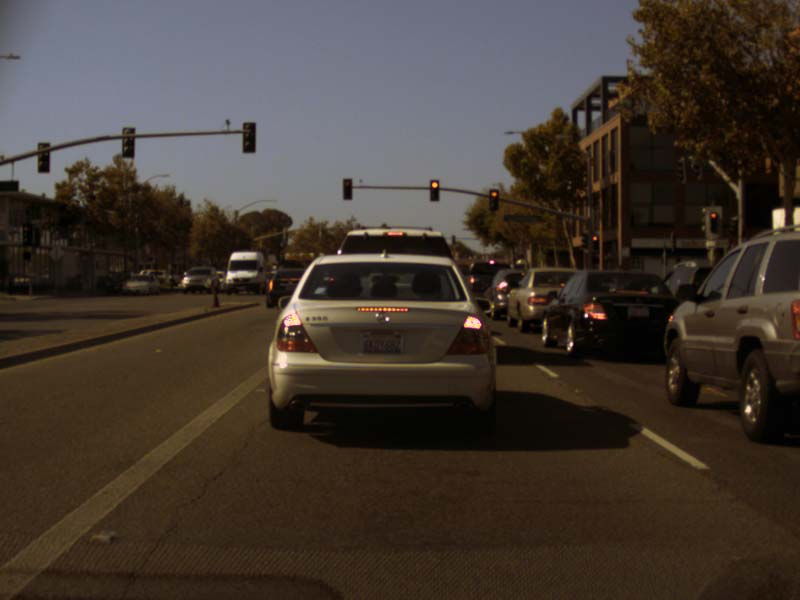Red: (705, 206, 722, 240), (22, 224, 31, 244), (430, 180, 438, 201), (343, 179, 351, 198), (490, 189, 497, 209), (591, 234, 598, 251)
